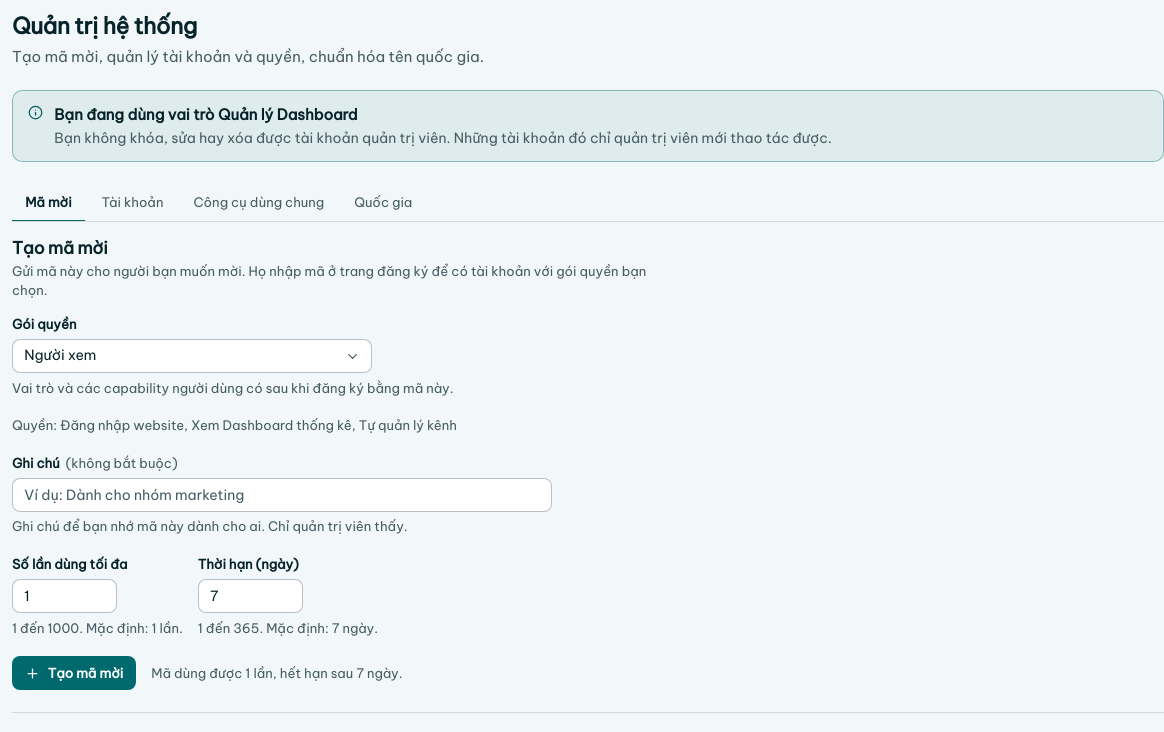
it: AdminPage — tạo mã mời theo preset › dash_admin không thấy preset admin_only trong danh sách
What coordinates should you click on to do the following:
click the dropdown named "Gói quyền"
I would click on:
 (60, 355)
Its box is [12, 339, 372, 373].
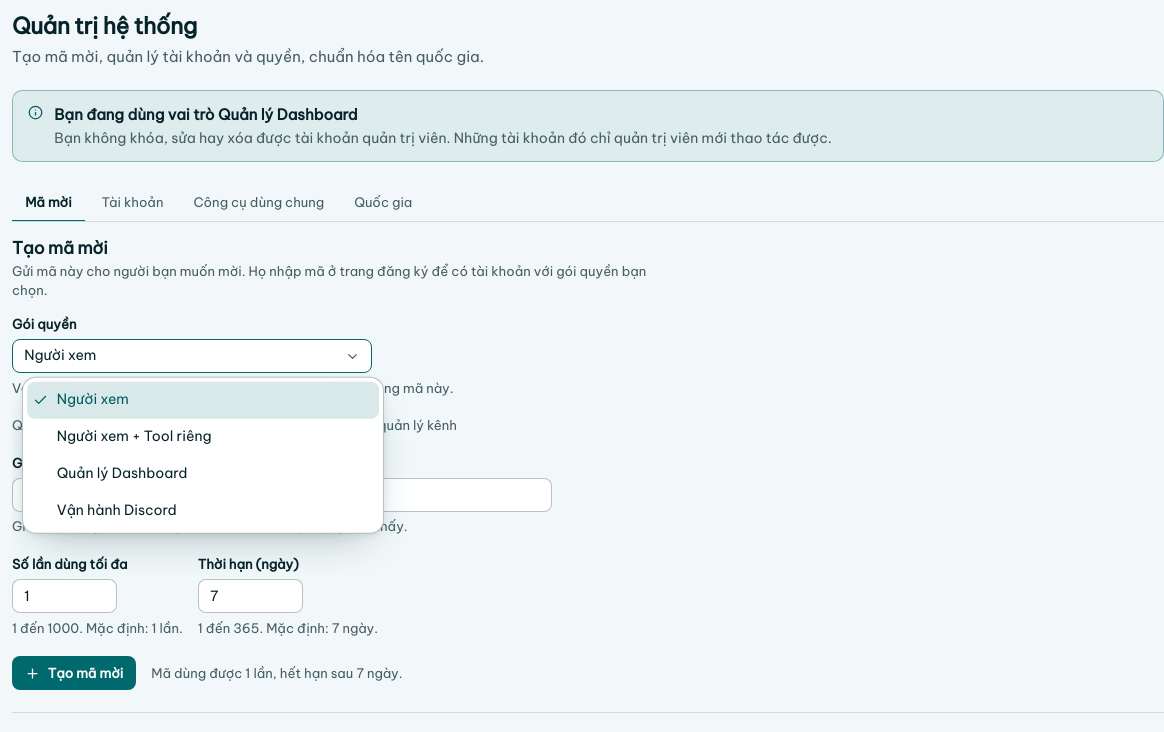
Check: the option "Người xem" is shown, box [27, 382, 379, 418]
